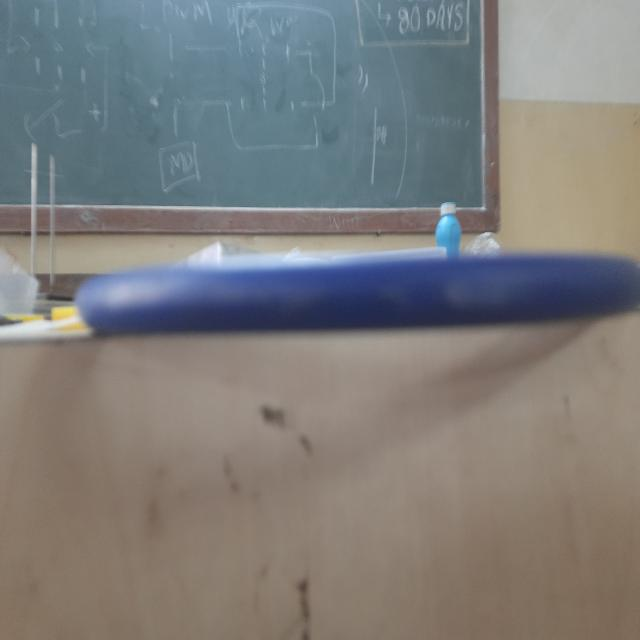daire: (93, 258, 636, 324)
